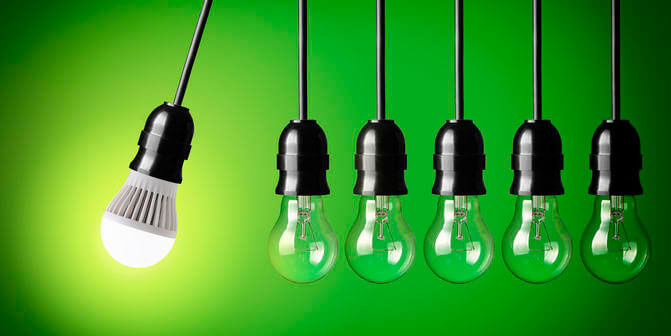Light_bulb: (96, 172, 186, 272), (261, 195, 343, 288), (340, 194, 422, 287), (418, 196, 500, 289), (497, 195, 579, 288), (577, 196, 659, 289)
